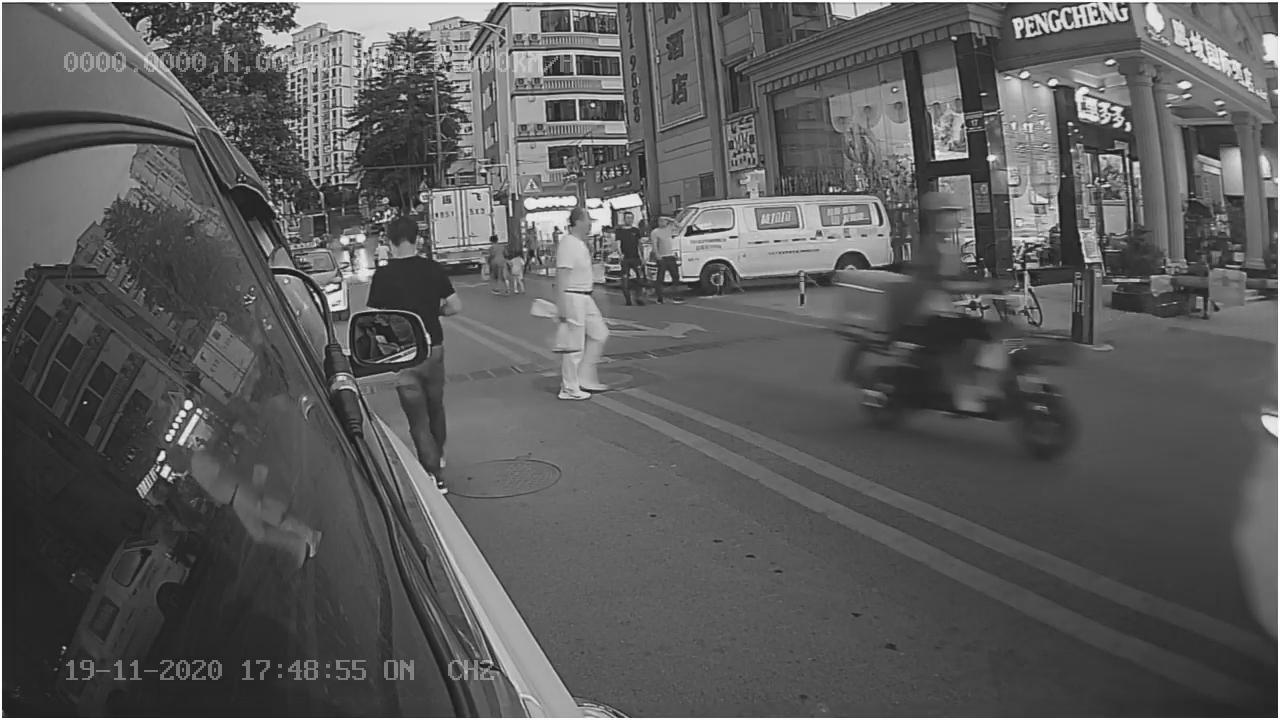person: (529, 205, 623, 414)
